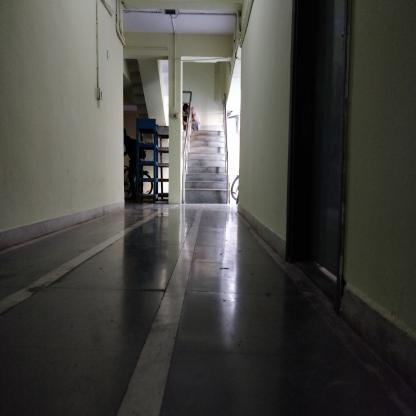stairs: (192, 131, 224, 207)
